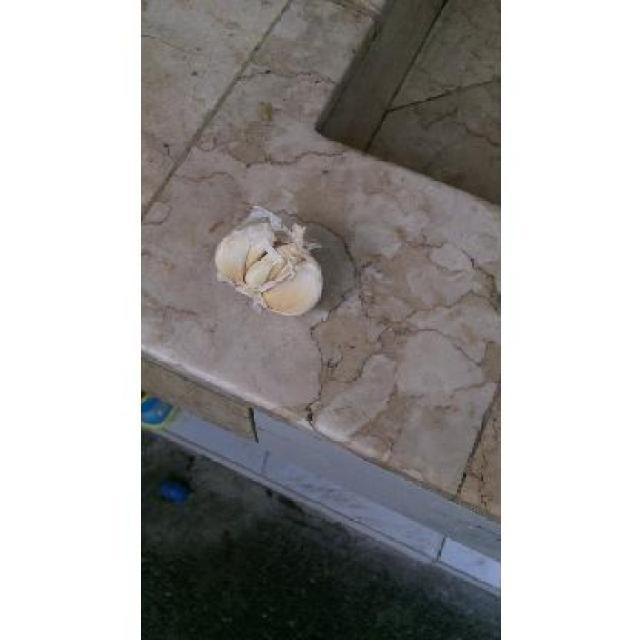garlic: (218, 206, 320, 316)
